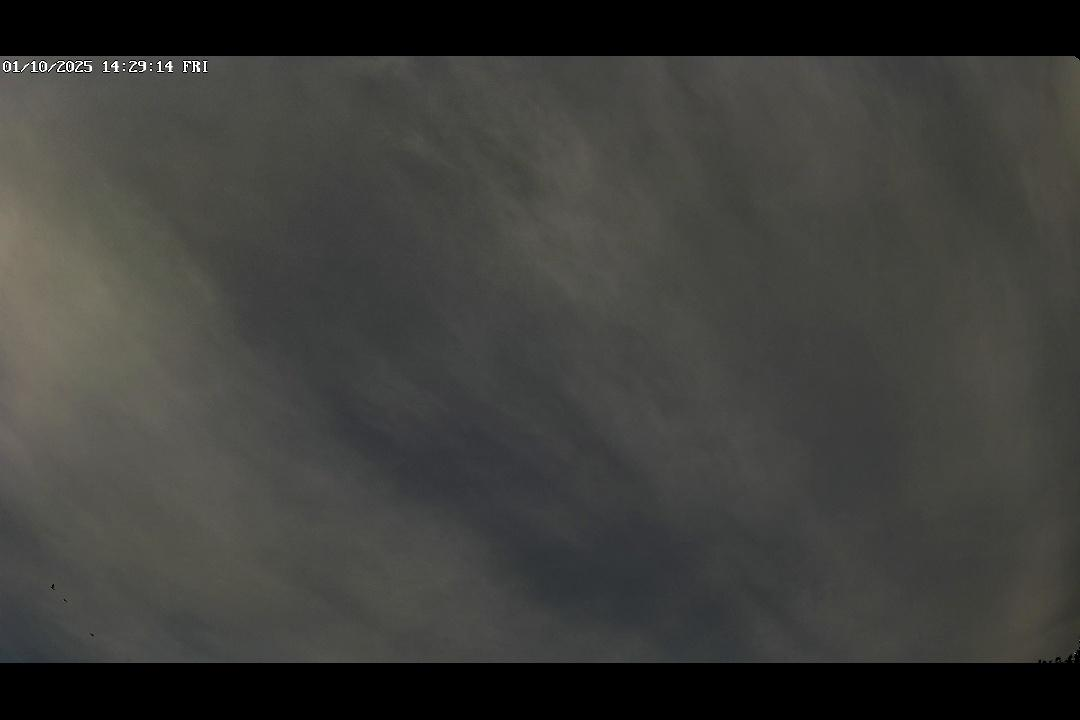WildLife: (38, 581, 66, 593), (86, 629, 99, 639), (58, 596, 73, 604)
